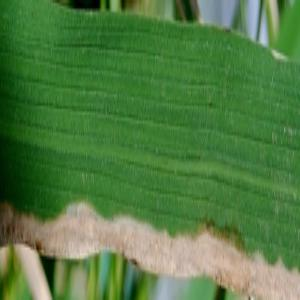Hawar Daun: (132, 216, 212, 284), (55, 197, 129, 267), (225, 249, 300, 300)
